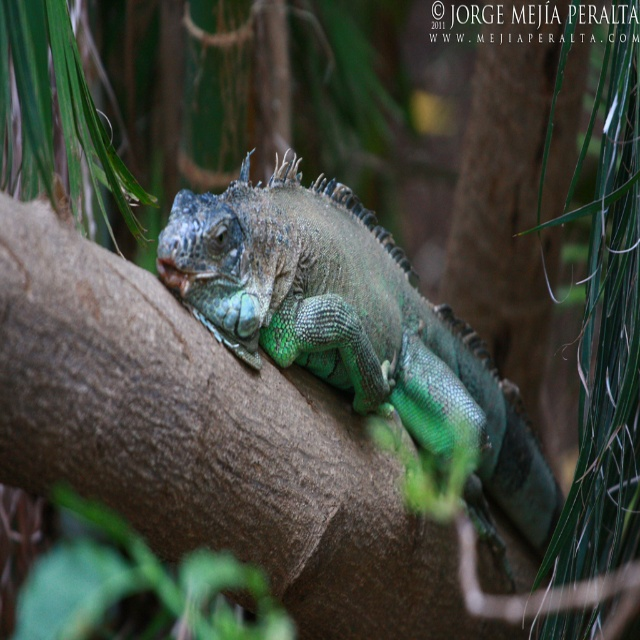Lizard: (159, 163, 570, 603)
